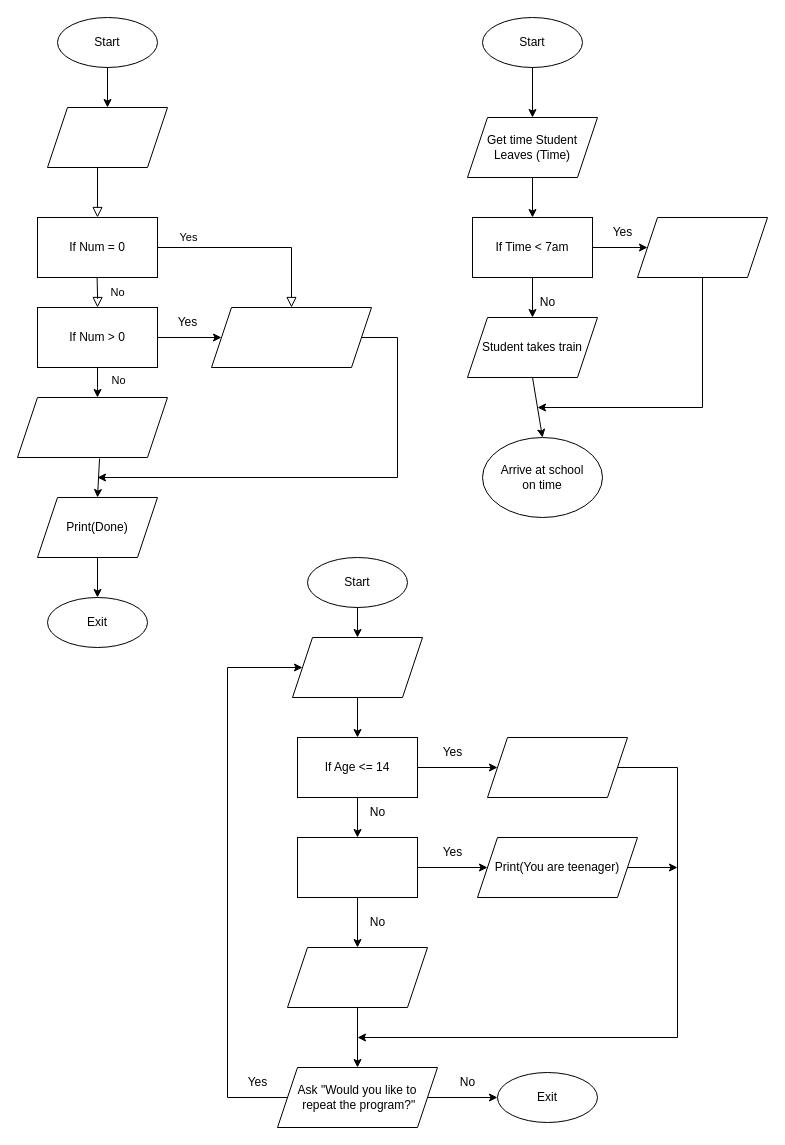
The diagram is 785 pixels wide and 1145 high, and some of its shapes have lost their labels. Each missing label, with the centre of its shape:
"Get customer age (Age)" belongs at (x=357, y=667).
"Get Number (Num)" belongs at (x=107, y=137).
"If Age >14 and <= 18" belongs at (x=357, y=867).
"Print(Greater than or equal to zero)" belongs at (x=291, y=337).
"Print(Less than zero )" belongs at (x=92, y=427).
"Print(You are adult)" belongs at (x=357, y=977).
"Print(You are child)" belongs at (x=557, y=767).
"Student takes bus" belongs at (x=702, y=247).
